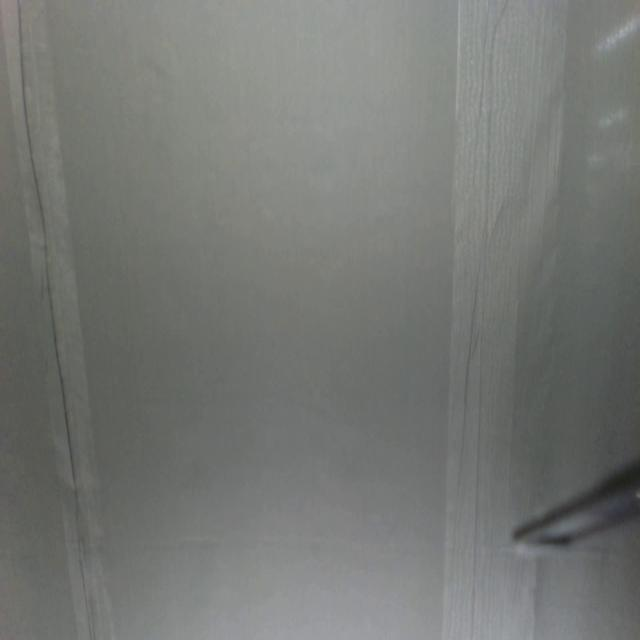crease: (3, 0, 104, 635), (445, 0, 503, 636)
